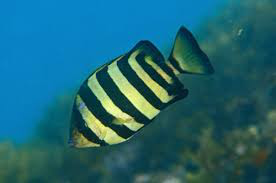azi: (63, 35, 215, 158)
